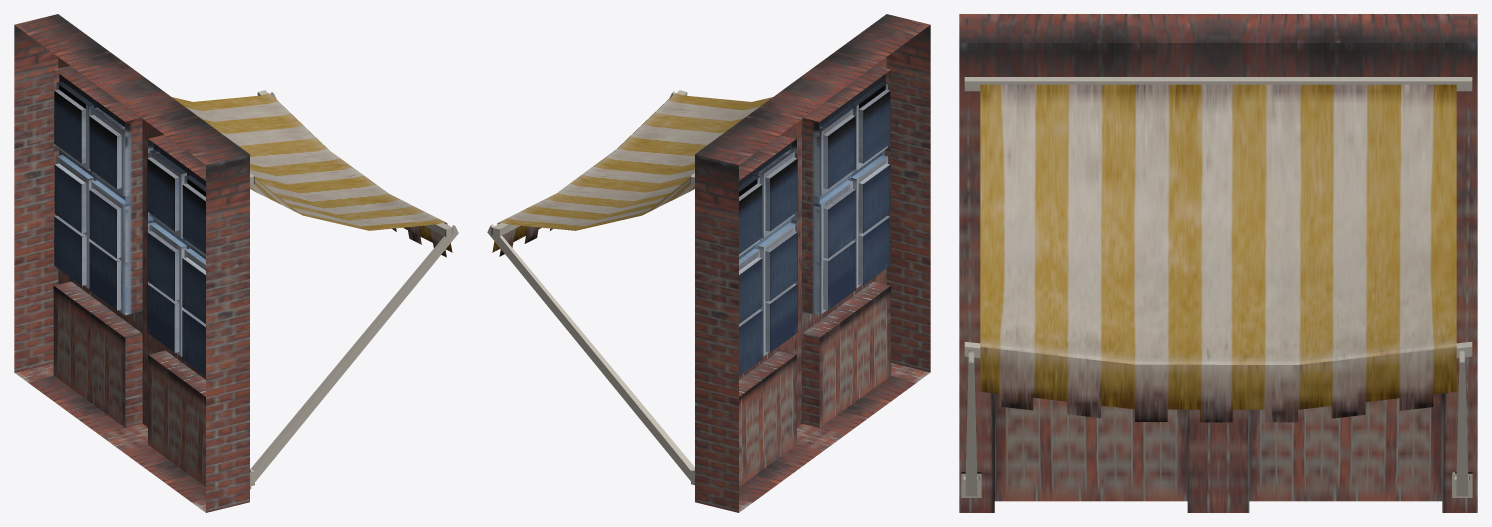
File: window.glb
The picture shows the model from 3 angles, left to right: view 1: azimuth 30°, elevation 25°; view 2: azimuth 150°, elevation 25°; view 3: azimuth 270°, elevation 25°; orthographic projection. The views are drawn at different scales.
Visible parts, largest first — view 1: 03-0-MF_StraightWall_Baked; view 2: 03-0-MF_StraightWall_Baked; view 3: 03-0-MF_StraightWall_Baked.
Boxes of the visible parts, x1,y1,x2,y2 form: 03-0-MF_StraightWall_Baked: [14, 14, 458, 512]; 03-0-MF_StraightWall_Baked: [487, 14, 930, 512]; 03-0-MF_StraightWall_Baked: [959, 14, 1477, 512].
Size of the model in its own units: 0.7712 by 1 by 1.
Materials: 1 (1 with a texture image).
